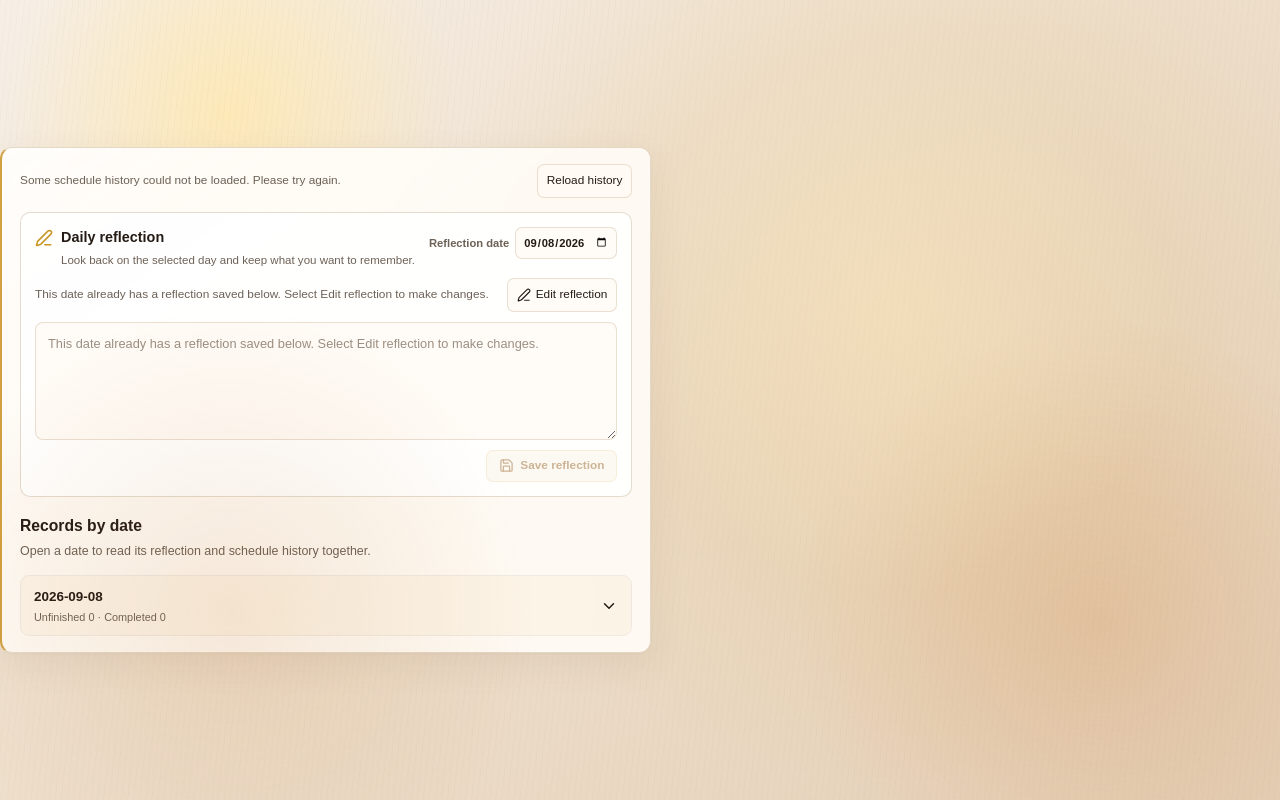
Test: daily reflection editor and history › shows reflections independently when the schedule request fails and retries the history
Click the button with class "accordion-header" at (68, 597), box [21,576,631,635]
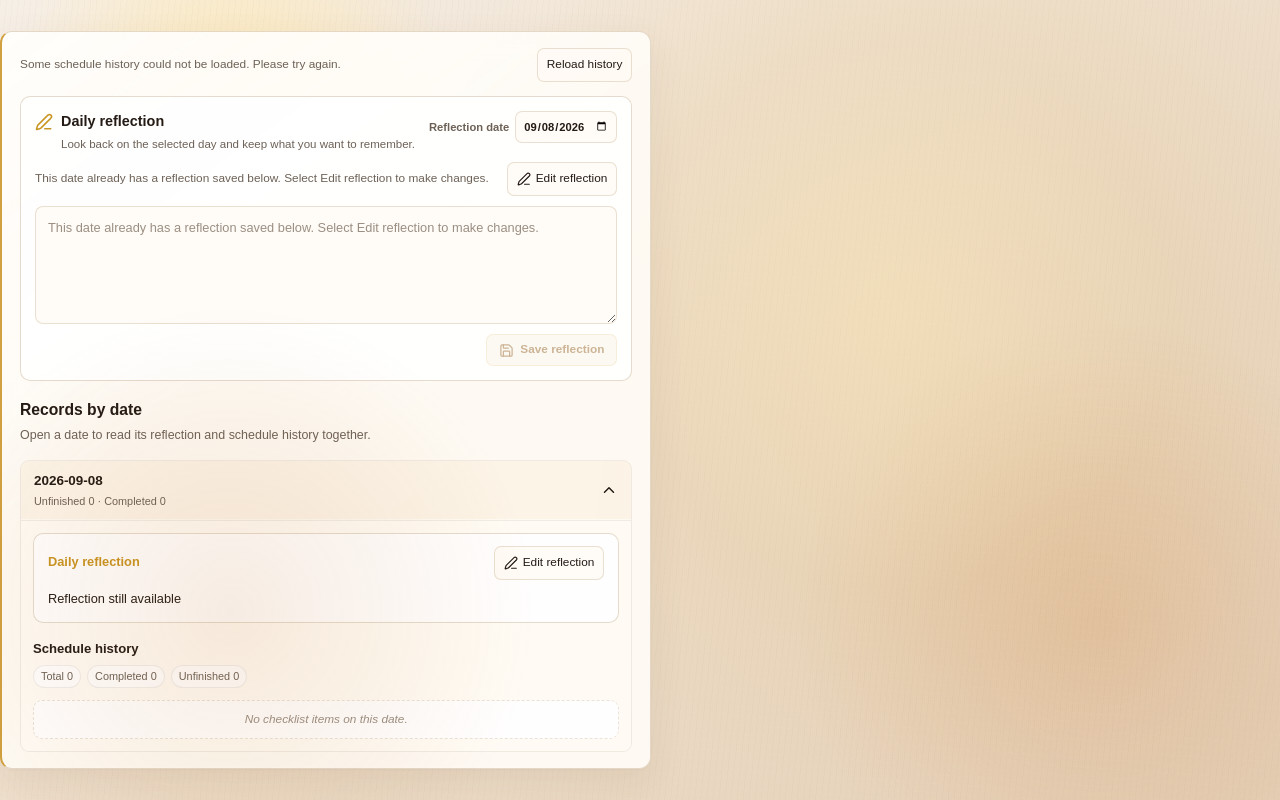
Check: the message with class "archive-load-error" shows "could not be loaded", box [20,57,341,71]
Check: the text with class "daily-reflection-content" reads "Reflection still available", box [48,591,181,606]
Click the button "Reload history" at (585, 65), box [537,48,632,82]
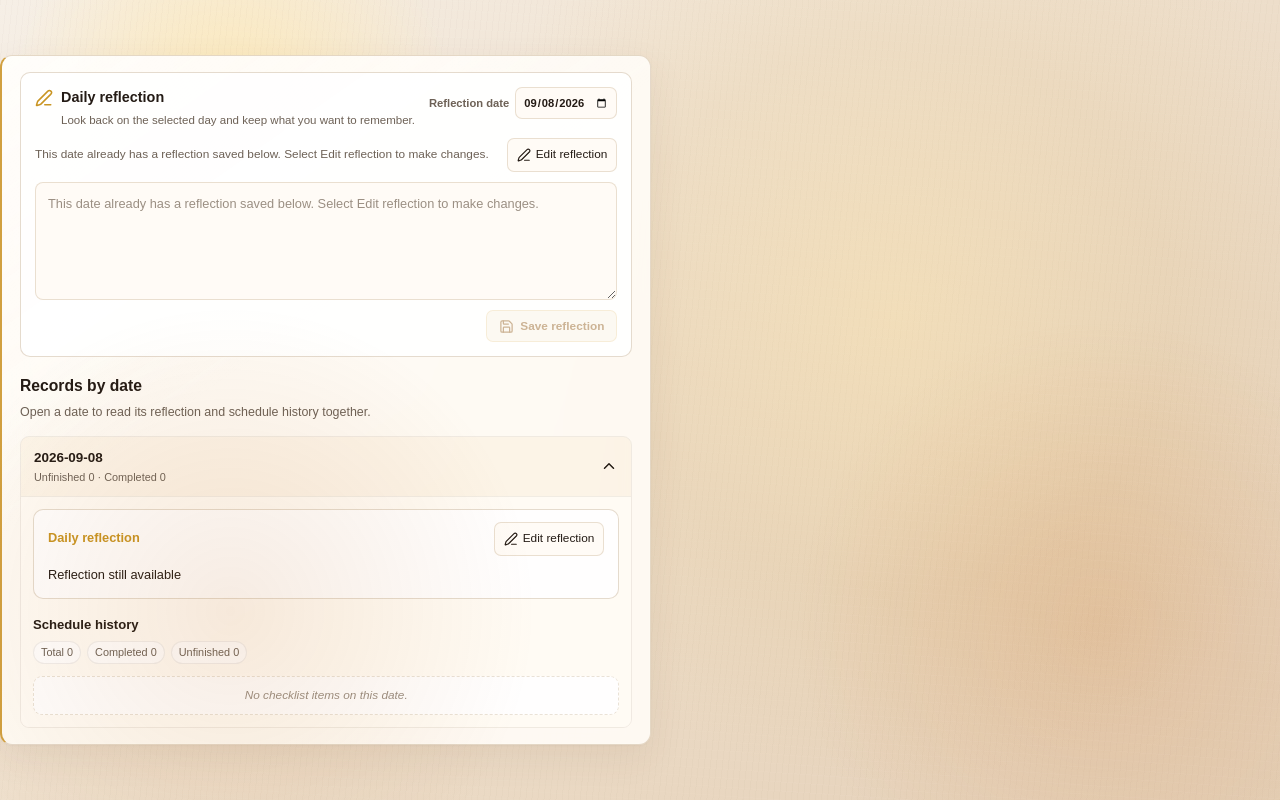
Check: the text with class "daily-reflection-content" reads "Reflection still available", box [48,567,181,582]
Check: the message with class "archive-load-error" is gone
